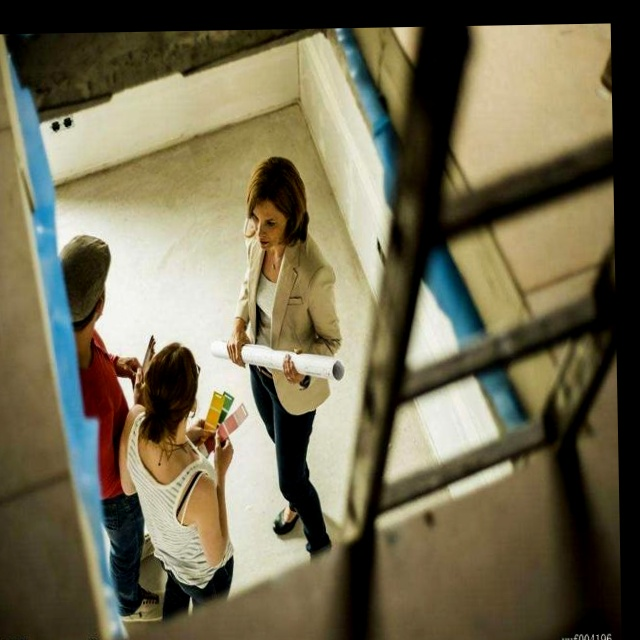Sin_Casco_Mascarrilla: (246, 153, 309, 248)
